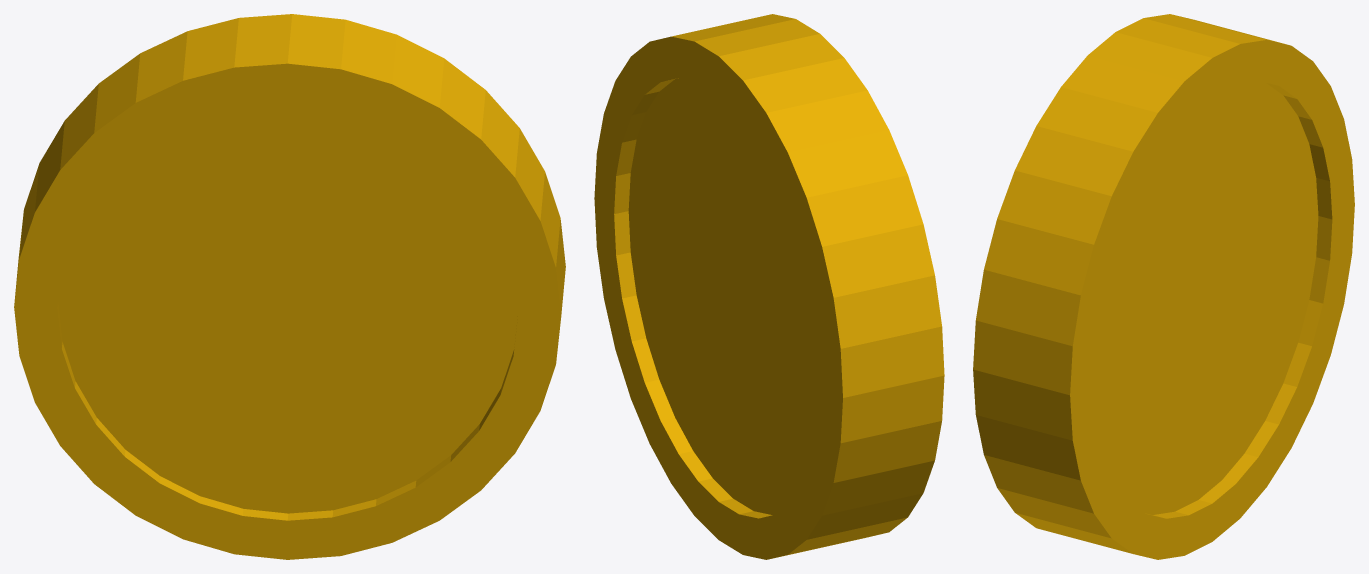
The model's file is coin.fbx.
3 renders of one model, left to right at view 1: azimuth 30°, elevation 25°; view 2: azimuth 150°, elevation 25°; view 3: azimuth 270°, elevation 25°, orthographic. The views are drawn at different scales.
Parts seen in each view (by area): view 1: Cylinder; view 2: Cylinder; view 3: Cylinder.
Boxes of the visible parts, <box> form: Cylinder: <box>14,14,565,559</box>; Cylinder: <box>594,14,944,559</box>; Cylinder: <box>973,14,1354,559</box>.
Size of the model in its own units: 192 by 200 by 143.
